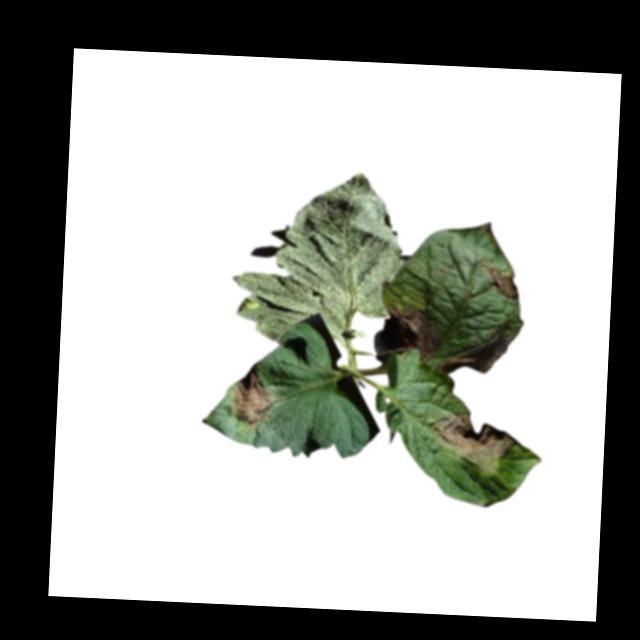Late_blight: (431, 405, 521, 475), (437, 334, 513, 378), (386, 303, 435, 360), (230, 366, 275, 427), (489, 260, 522, 302)
